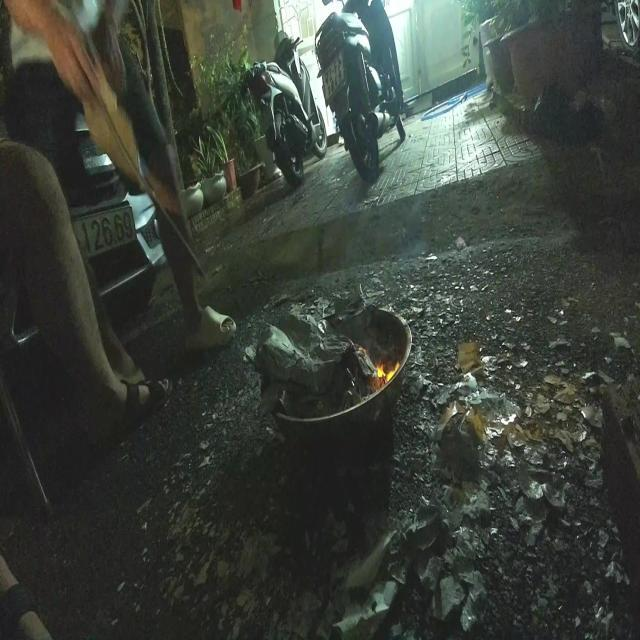Fire: (374, 354, 400, 387)
